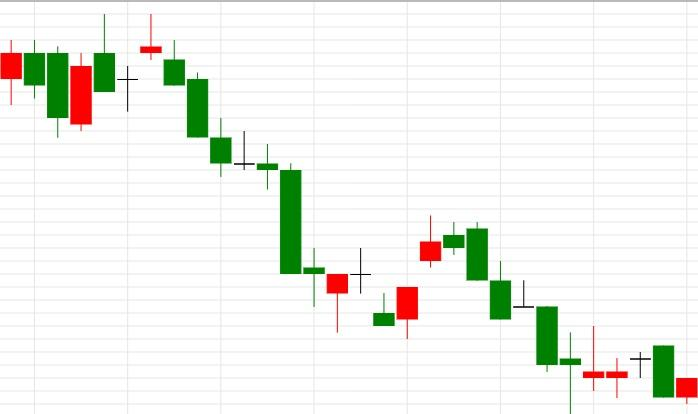hammer_rise: (164, 41, 348, 333)
